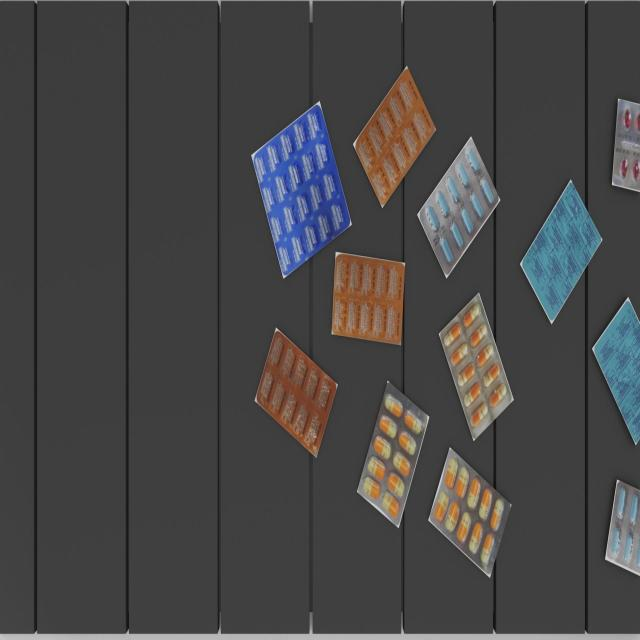blister: (250, 106, 352, 282), (350, 57, 436, 210), (520, 176, 602, 334), (416, 133, 501, 277), (437, 293, 515, 442), (355, 380, 430, 524), (430, 444, 511, 577), (253, 328, 337, 454), (590, 286, 639, 446), (329, 248, 406, 346), (606, 476, 640, 579), (610, 90, 640, 192)
